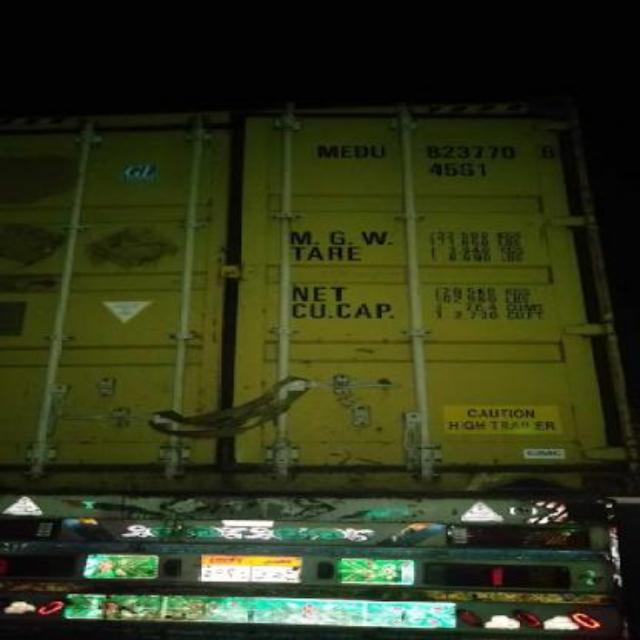0: (498, 136, 514, 164)
2: (436, 138, 454, 162)
3: (454, 140, 470, 163)
6: (538, 140, 562, 162)
7: (480, 137, 496, 163), (468, 137, 484, 161)
8: (422, 140, 440, 162)
D: (352, 139, 370, 165)
E: (336, 140, 352, 160)
M: (314, 139, 336, 165)
U: (368, 140, 386, 167)
